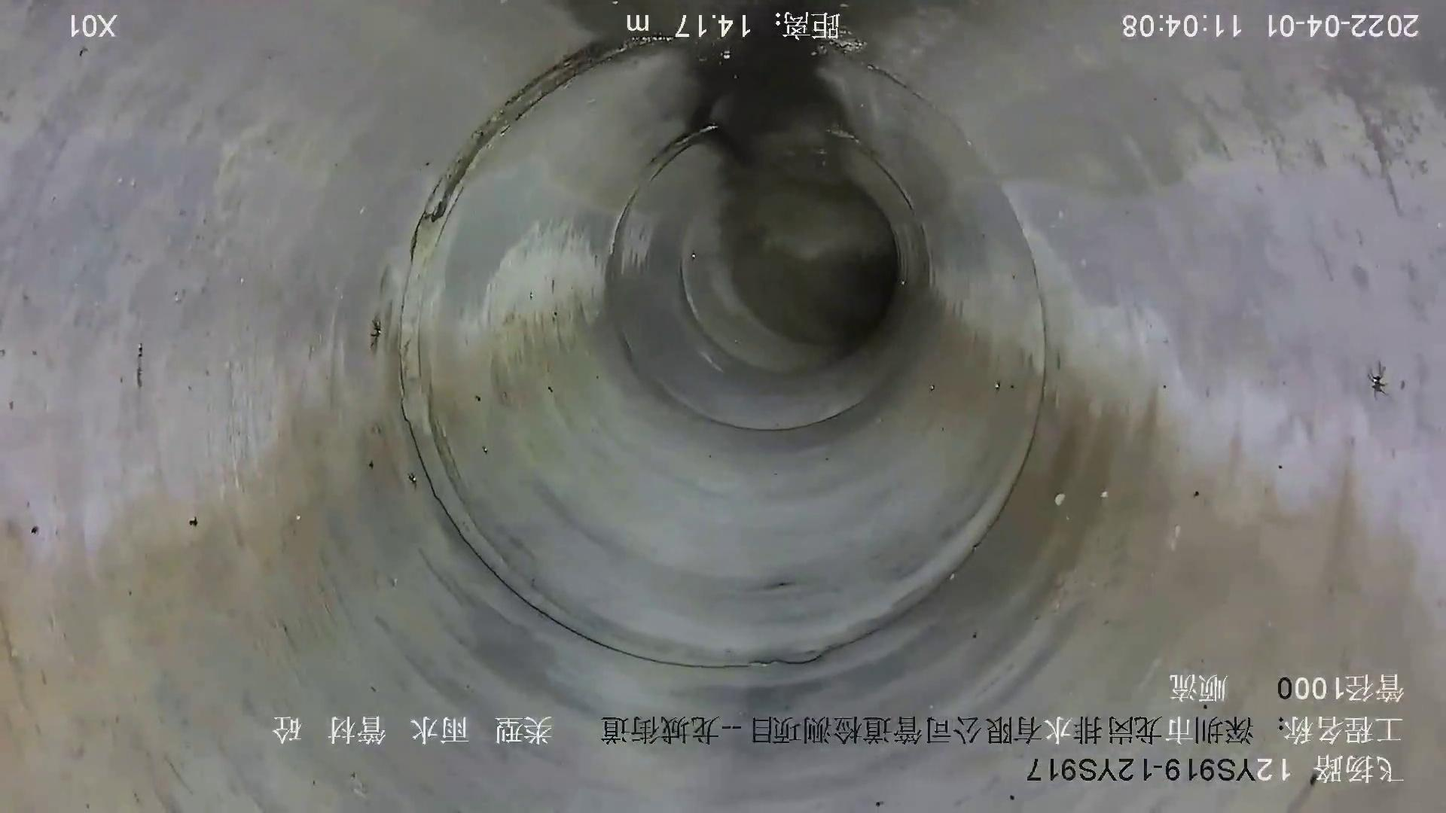CKTJ: (392, 40, 880, 672)
